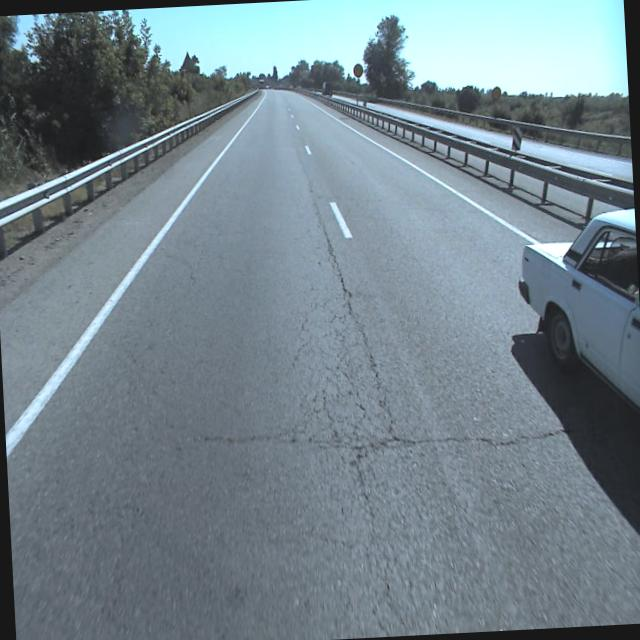road: (0, 88, 640, 640)
